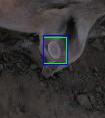text: (43, 37, 66, 63)
